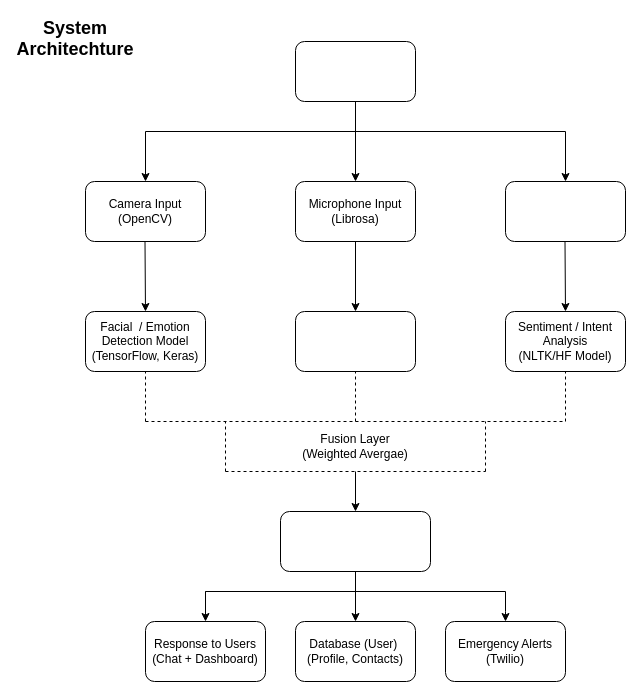
The diagram is 643 pixels wide and 699 high, and some of its shapes have lost their labels. The centre of each missing label's shape, as x and y in pixels:
"GPT-4o (Empathetic Model)" goes at point (355, 541).
"Text Input (NLTK)" goes at point (565, 211).
"Voice / Emotion Detection Model (CNN + LSTM)" goes at point (355, 341).
"Web User Interafce (Dashboard)" goes at point (355, 71).
